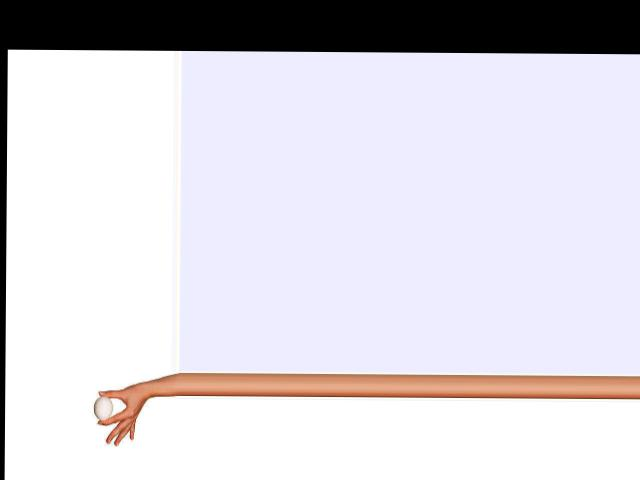egg: (93, 395, 112, 420)
